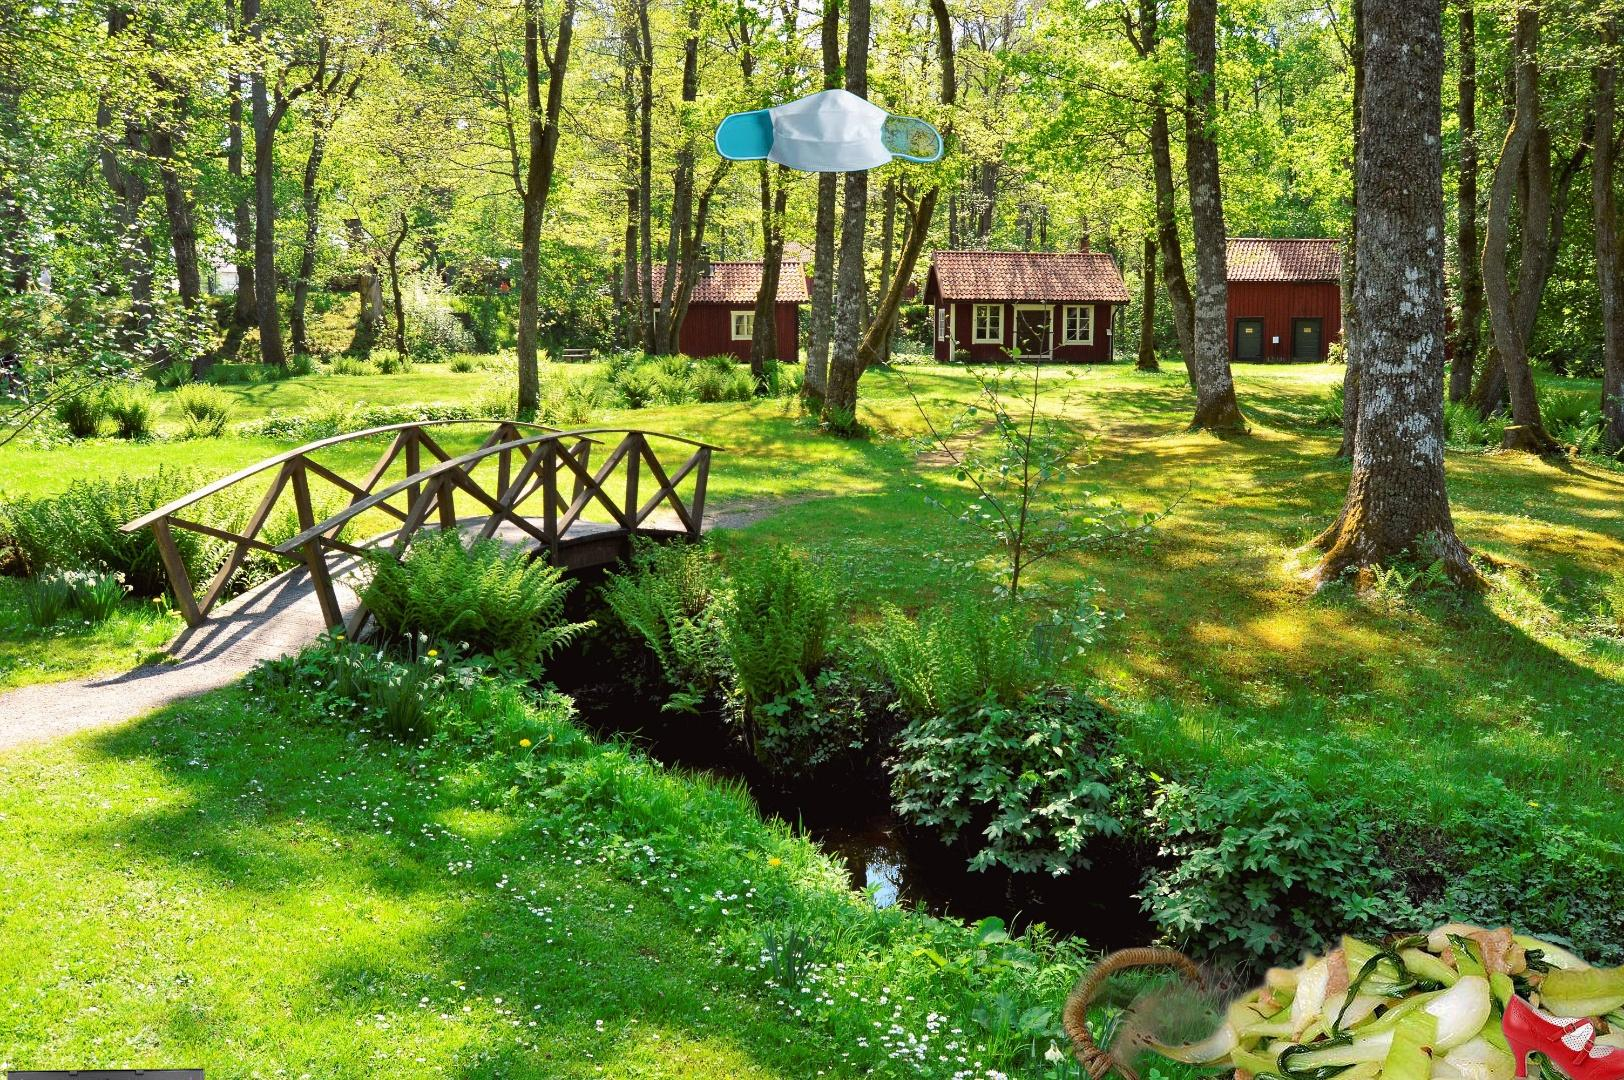battery: (4, 1066, 208, 1080)
biological: (1042, 891, 1624, 1080)
glass: (1591, 1009, 1624, 1080)
shoes: (1498, 992, 1624, 1080)
trash: (713, 86, 947, 175)
